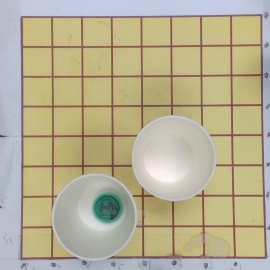cup: (130, 116, 216, 203)
cup_green: (54, 174, 138, 261)
